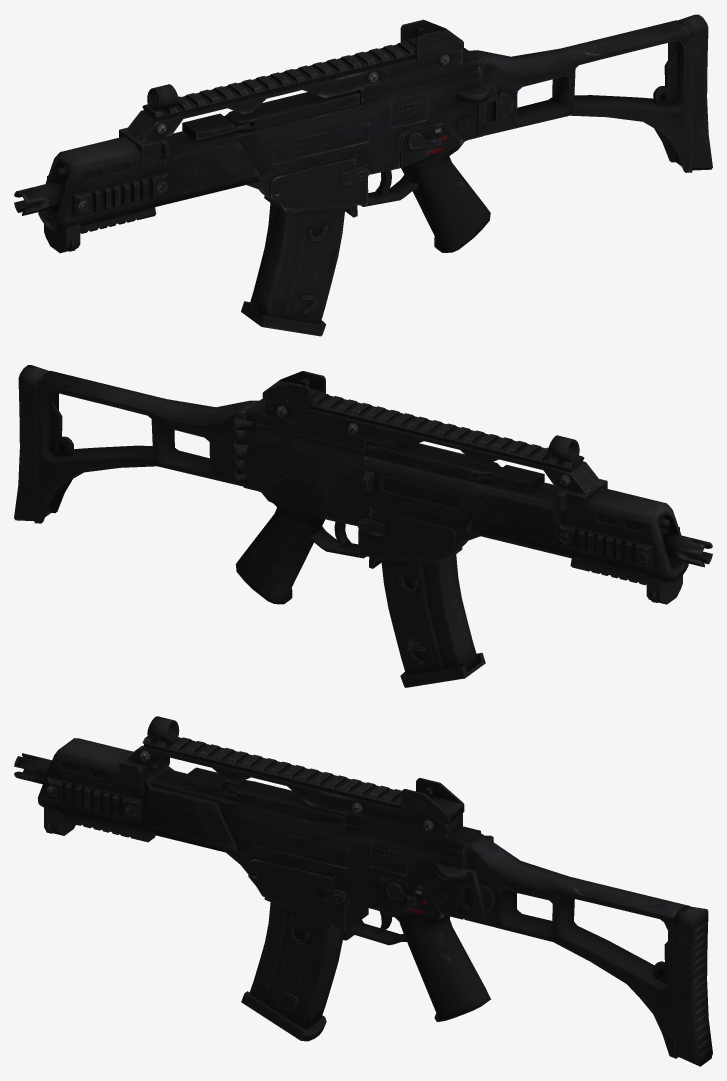
3 views of the same model, one above another, from view 1: azimuth 30°, elevation 25°; view 2: azimuth 150°, elevation 25°; view 3: azimuth 330°, elevation 25° (orthographic).
Parts seen in each view (by area): view 1: Cube, G36C_butt_Cube.033, G36C_clip_Cube.032; view 2: Cube, G36C_butt_Cube.033, G36C_clip_Cube.032; view 3: Cube, G36C_butt_Cube.033, G36C_clip_Cube.032.
Part boxes in pixels (x1,y1,x2,y2): Cube: (14,19,505,253); G36C_butt_Cube.033: (469,14,712,172); G36C_clip_Cube.032: (241,196,351,336); Cube: (233,371,712,604); G36C_butt_Cube.033: (14,365,258,523); G36C_clip_Cube.032: (375,547,485,687); Cube: (14,716,493,1021); G36C_butt_Cube.033: (464,833,712,1066); G36C_clip_Cube.032: (241,897,342,1041).
Bounding box in the file's own units: 8.95 × 3.5 × 0.7578.
2 materials, 2 textured.
